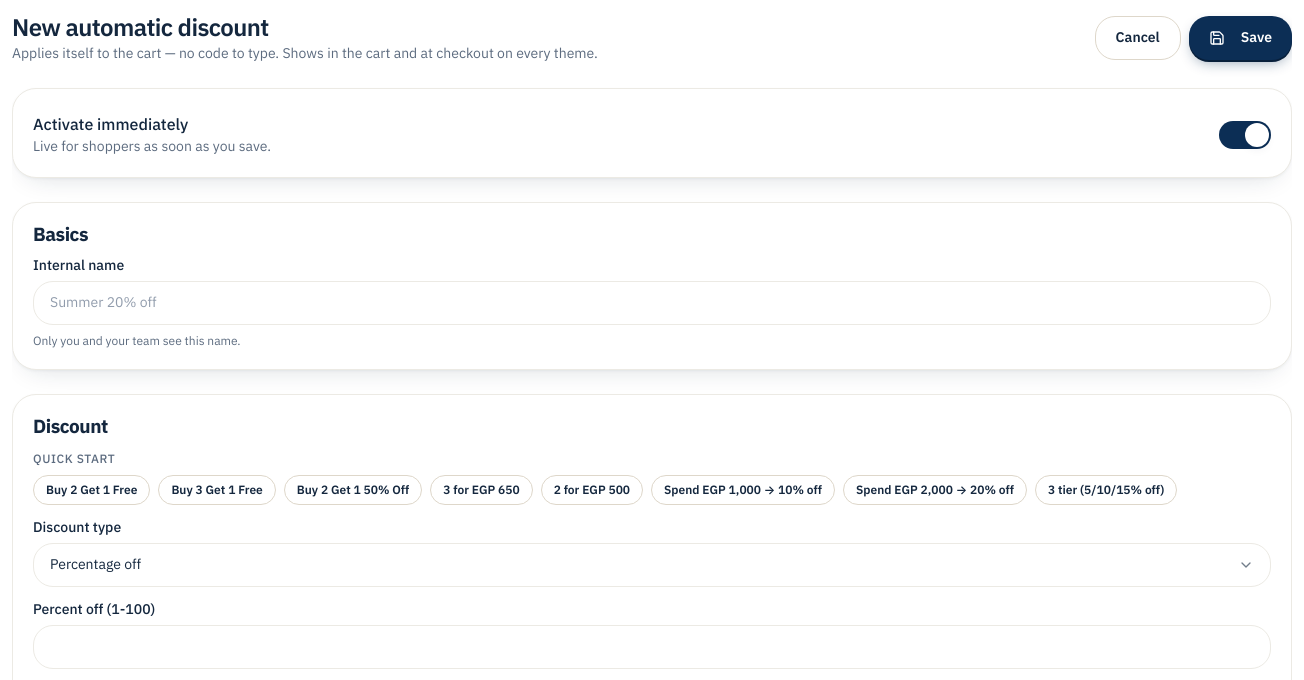
Test: B. multibuy payload shape › typed values (not just template chips) reach the payload as numbers
Later steps or results of the test are not shown.
Type "Custom bundle" into the field labelled "Internal name" at (652, 303), box 33,281 -> 1271,325
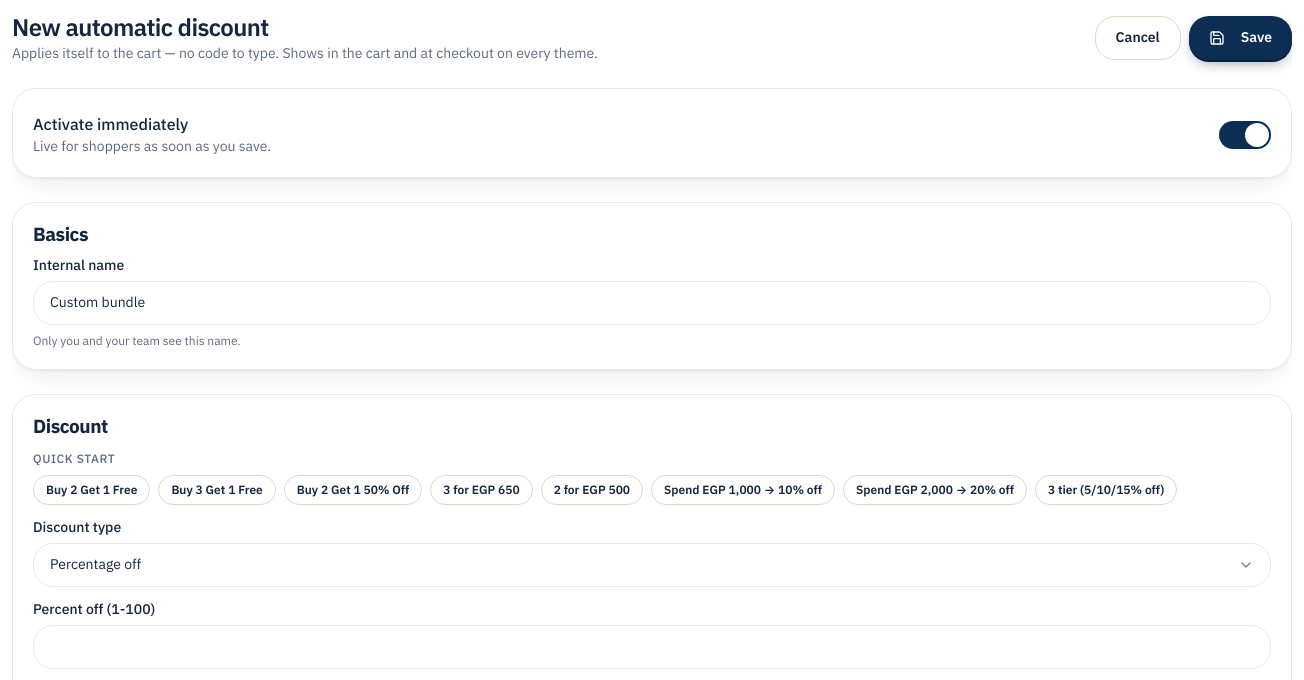
Click the button "3 for EGP 650" at (482, 490), box 430,474 -> 533,504
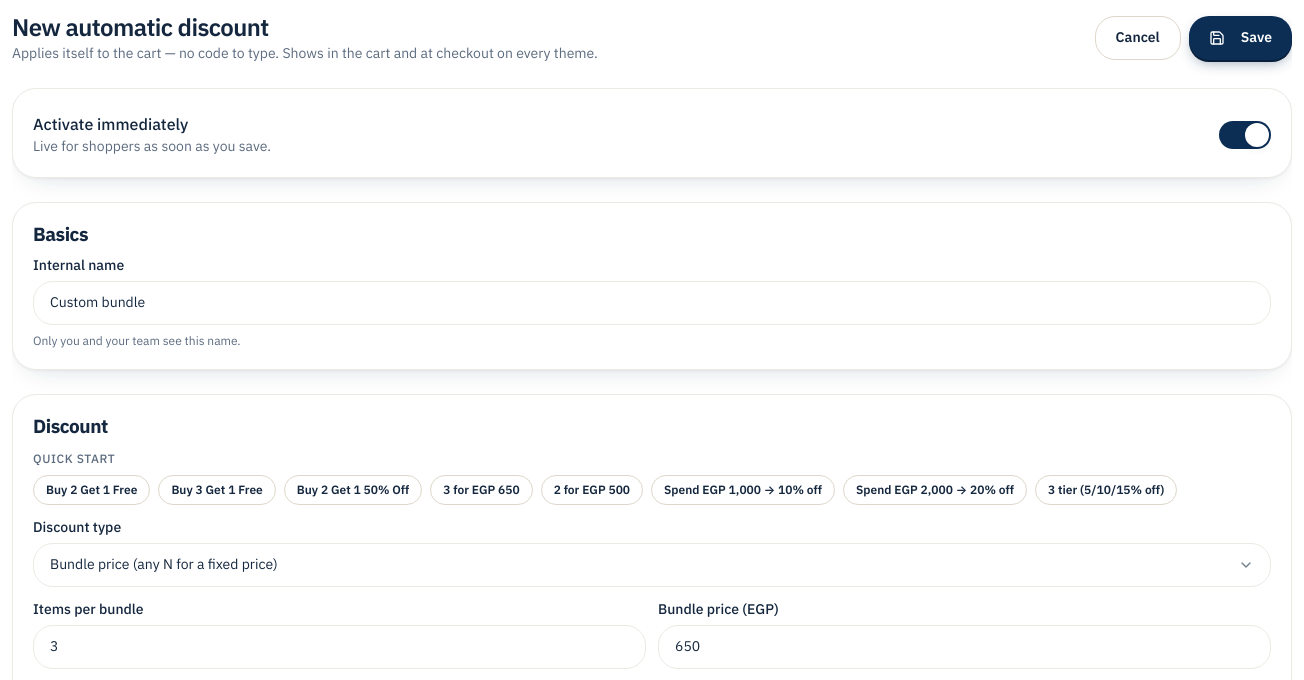
Check: the number field with id "rule-multibuy-qty" is shown
Replace the text in the number field with id "rule-multibuy-qty" with "4" at (340, 646), box 33,624 -> 646,668
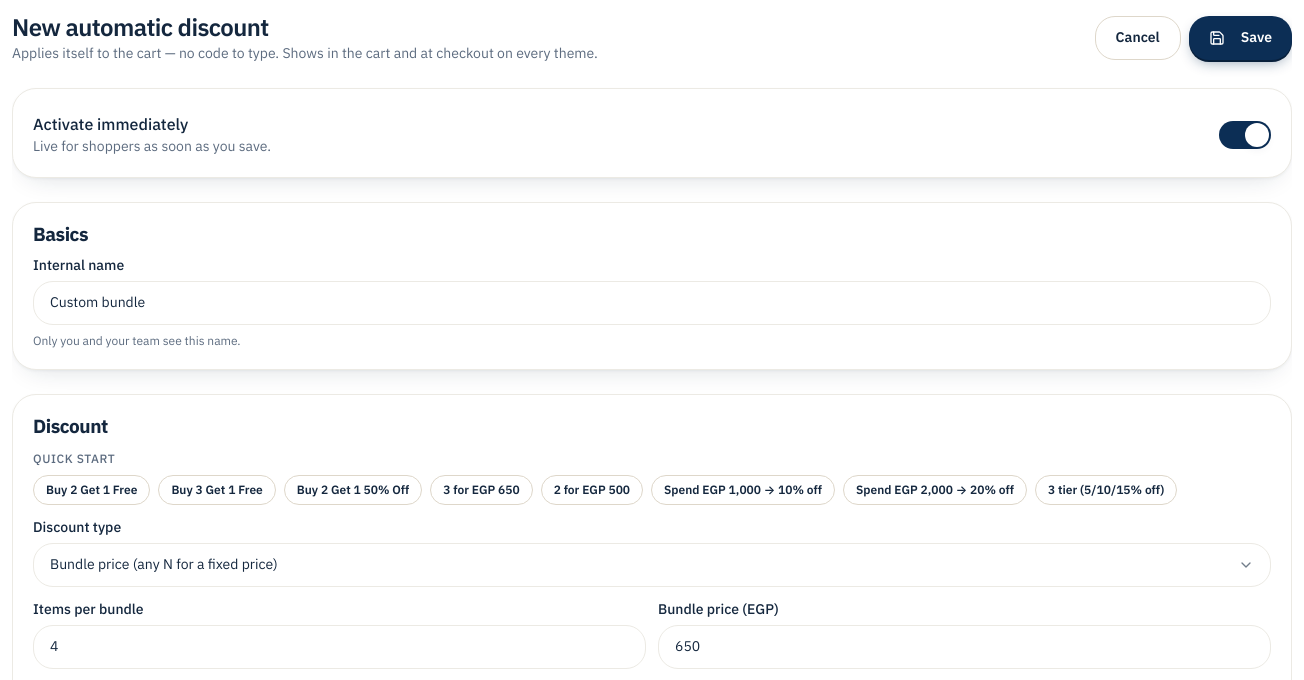
Check: the number field with id "rule-multibuy-price" is shown, box 658,624 -> 1271,668
